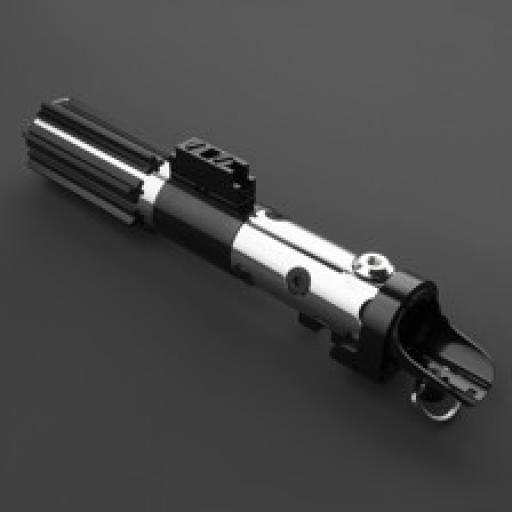lightsaber: (24, 93, 498, 428)
